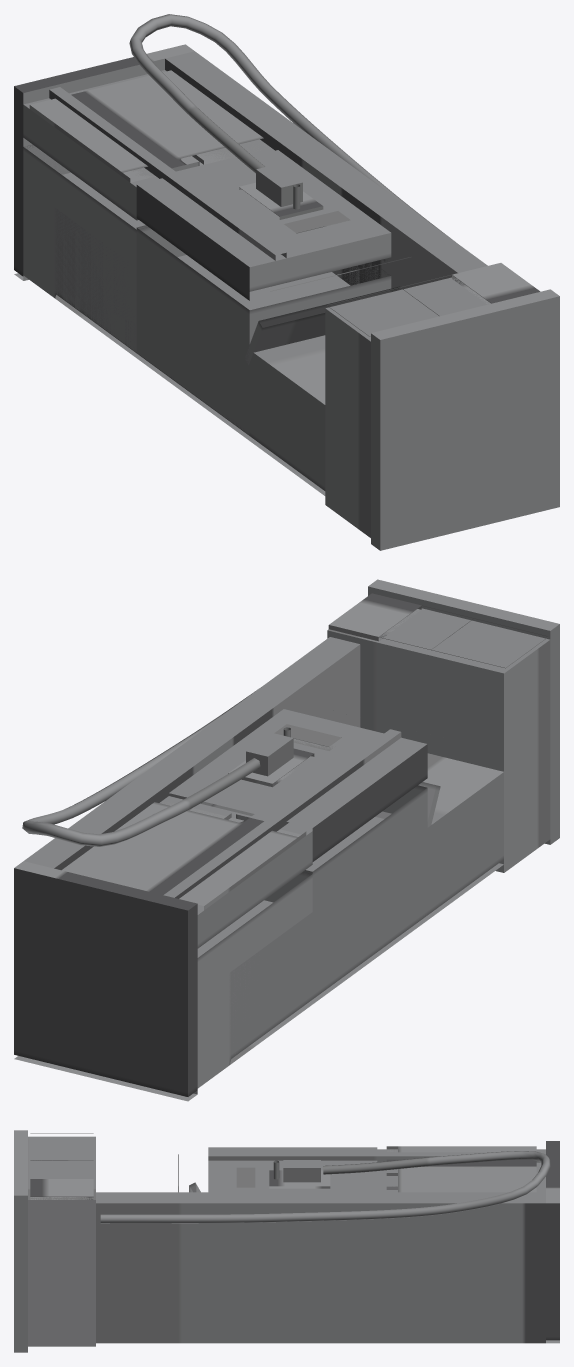
3 views of the same model, one above another, from view 1: azimuth 30°, elevation 25°; view 2: azimuth 150°, elevation 25°; view 3: azimuth 270°, elevation 25° (orthographic). The views are drawn at different scales.
Size of the model in its own units: 0.6999 by 0.8382 by 2.33.
